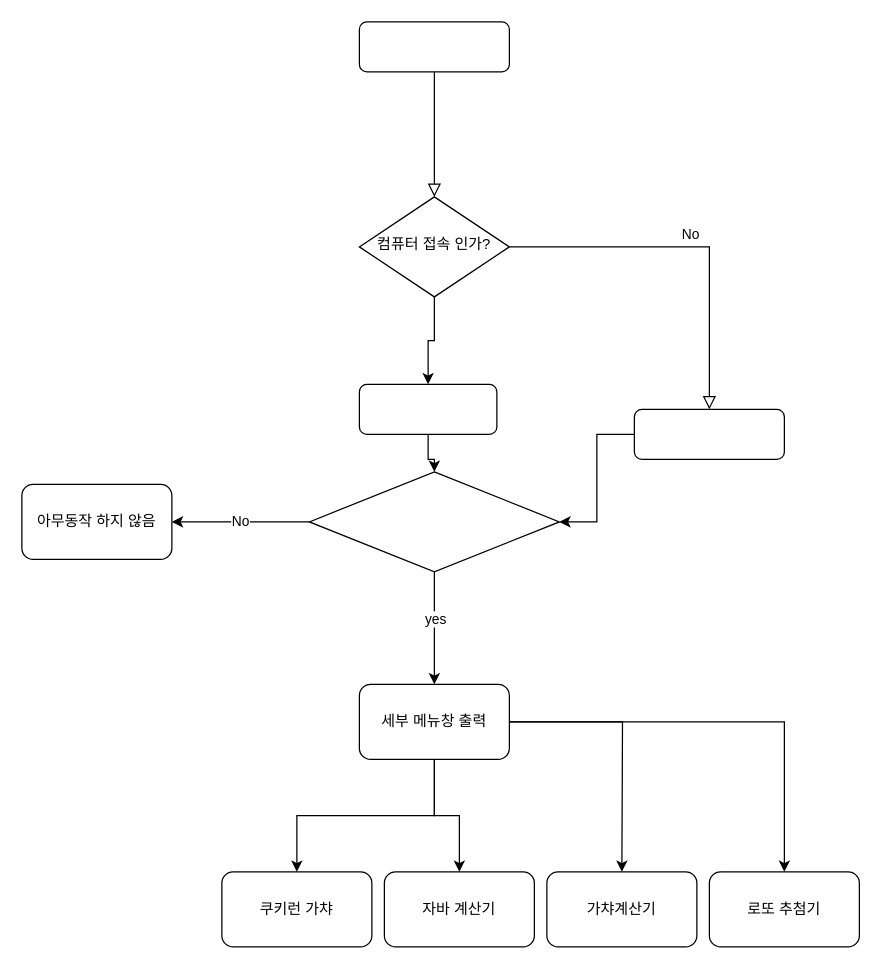
Image size: 881x969. Some labels were removed from this diagram. The shapes that lost their labels are listed below. From the top down, each one's box as (x1, y1, x2, y2) in pixels, then its label:
(358, 21, 509, 72): 페이지 시작
(358, 383, 497, 434): 컴퓨터 UI
(633, 408, 784, 459): 모바일 UI로 변경
(308, 471, 559, 572): 마우스 커서가 메뉴에 있는가?
